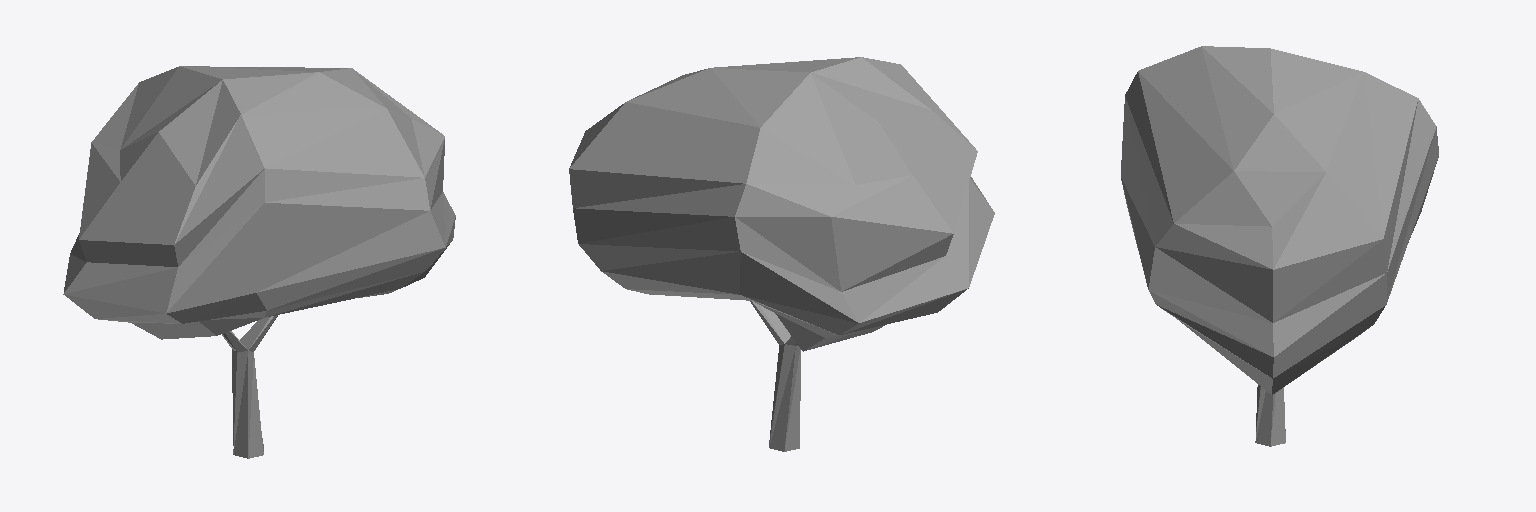
Rendered from Kukui_Tree.obj.
3 views of the same model, side by side, from view 1: azimuth 30°, elevation 25°; view 2: azimuth 150°, elevation 25°; view 3: azimuth 270°, elevation 25° (orthographic).
Visible parts, largest first — view 1: Mesh_pPipe1; view 2: Mesh_pPipe1; view 3: Mesh_pPipe1.
Part boxes in pixels (bbox=[...]): Mesh_pPipe1: bbox=[63, 66, 455, 458]; Mesh_pPipe1: bbox=[569, 57, 994, 451]; Mesh_pPipe1: bbox=[1121, 46, 1438, 446].
Bounding box in the file's own units: 535 × 491 × 375.